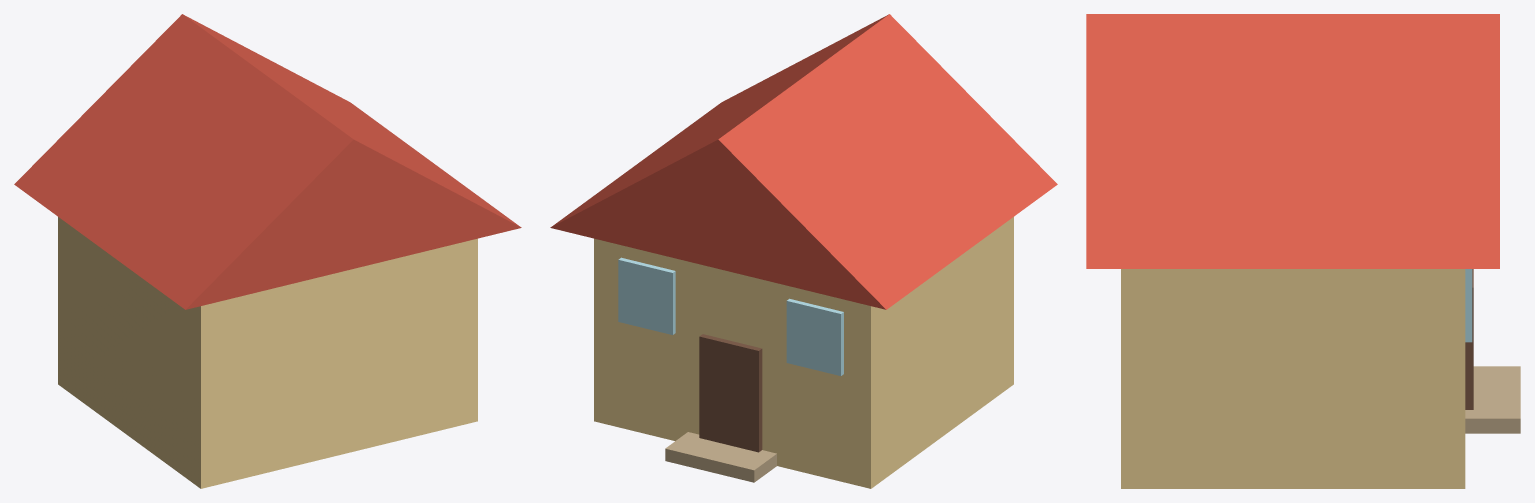
File: house-a.glb
3 renders of one model, left to right at view 1: azimuth 30°, elevation 25°; view 2: azimuth 150°, elevation 25°; view 3: azimuth 270°, elevation 25°, orthographic. The views are drawn at different scales.
Visible parts, largest first — view 1: roof, walls; view 2: roof, walls, door, winL, winR, step; view 3: roof, walls, step, door, winR.
Boxes of the visible parts, x1=… form: roof: x1=14, y1=14, x2=521, y2=309; walls: x1=58, y1=217, x2=477, y2=488; roof: x1=550, y1=14, x2=1057, y2=309; walls: x1=594, y1=217, x2=1013, y2=488; door: x1=699, y1=334, x2=762, y2=452; winL: x1=786, y1=298, x2=843, y2=375; winR: x1=618, y1=257, x2=675, y2=334; step: x1=665, y1=432, x2=776, y2=482; roof: x1=1086, y1=14, x2=1499, y2=268; walls: x1=1121, y1=269, x2=1465, y2=488; step: x1=1465, y1=366, x2=1520, y2=433; door: x1=1465, y1=269, x2=1473, y2=409; winR: x1=1465, y1=269, x2=1472, y2=342.
Size of the model in its own units: 3.4 by 3.15 by 3.15.
